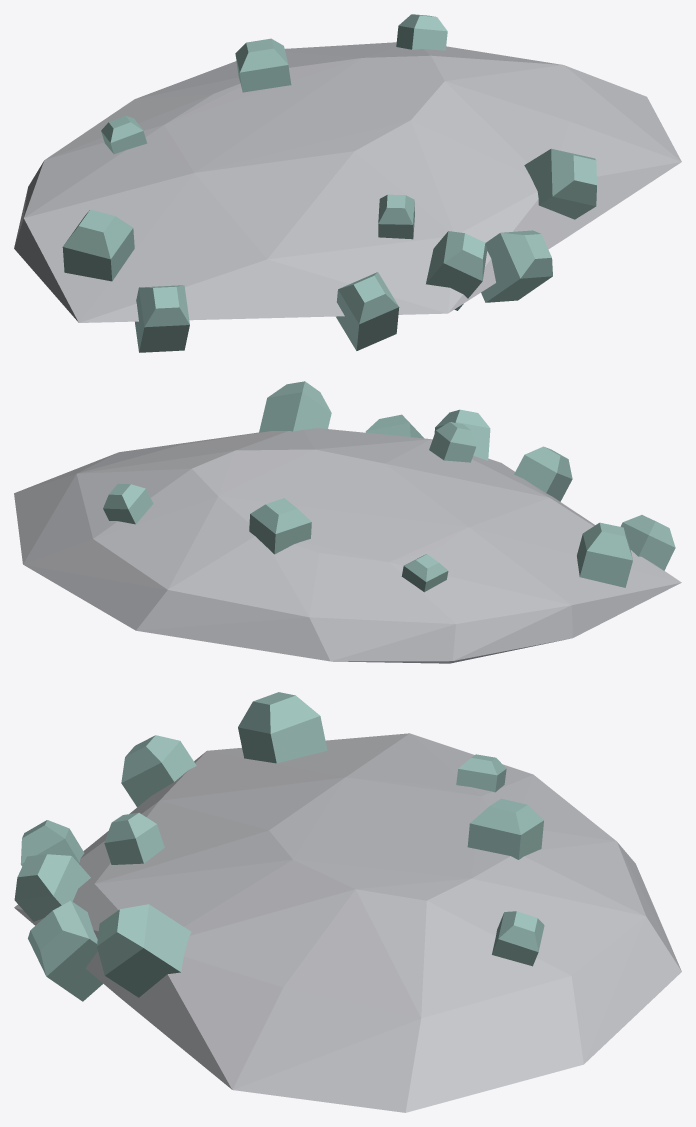
Rendered from SM_MR_Crystal_Medium_01.fbx.
The picture shows the model from 3 angles, top to bottom: view 1: azimuth 30°, elevation 25°; view 2: azimuth 150°, elevation 25°; view 3: azimuth 270°, elevation 25°; orthographic projection. The views are drawn at different scales.
Parts seen in each view (by area): view 1: SM_MR_Crystal_Medium_01; view 2: SM_MR_Crystal_Medium_01; view 3: SM_MR_Crystal_Medium_01.
Boxes of the visible parts, <box> form: SM_MR_Crystal_Medium_01: <box>14,14,681,352</box>; SM_MR_Crystal_Medium_01: <box>14,381,681,663</box>; SM_MR_Crystal_Medium_01: <box>14,692,681,1112</box>.
Bounding box in the file's own units: 1.15 × 0.8882 × 0.2326.
